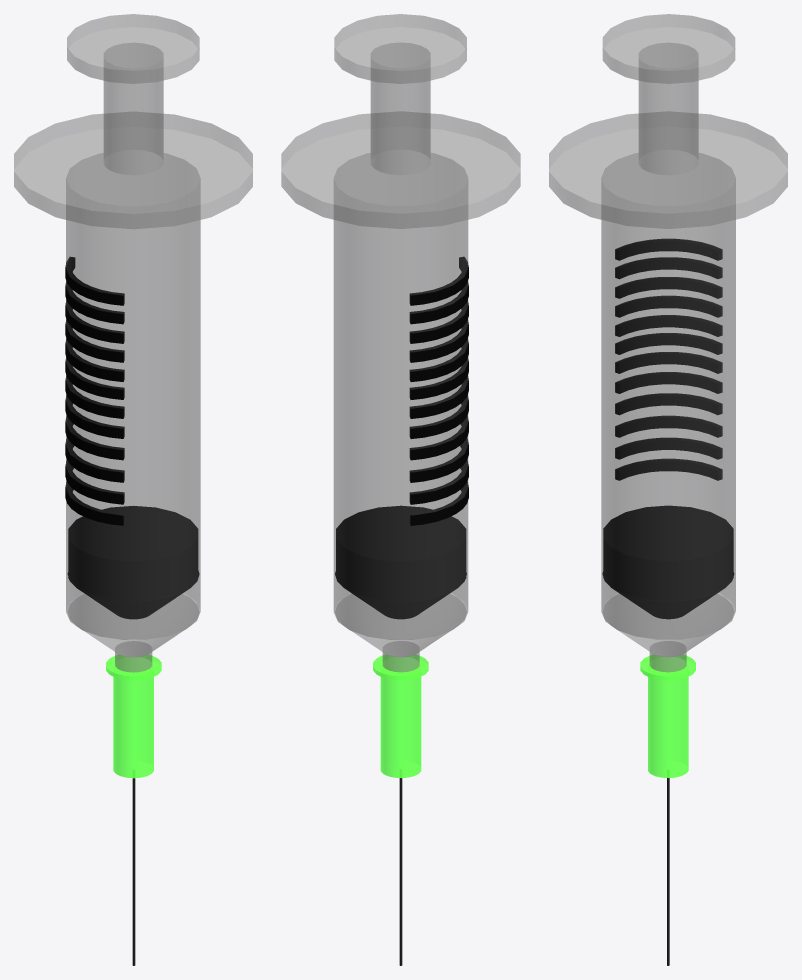
Rendered from syringe1.FBX.
3 renders of one model, left to right at view 1: azimuth 30°, elevation 25°; view 2: azimuth 150°, elevation 25°; view 3: azimuth 270°, elevation 25°, orthographic.
Parts seen in each view (by area): view 1: Cylinder005; view 2: Cylinder005; view 3: Cylinder005.
Boxes of the visible parts, x1=… form: Cylinder005: x1=14, y1=14, x2=252, y2=965; Cylinder005: x1=281, y1=14, x2=520, y2=965; Cylinder005: x1=549, y1=14, x2=787, y2=965.
Bounding box in the file's own units: 18 × 75.54 × 17.73.
